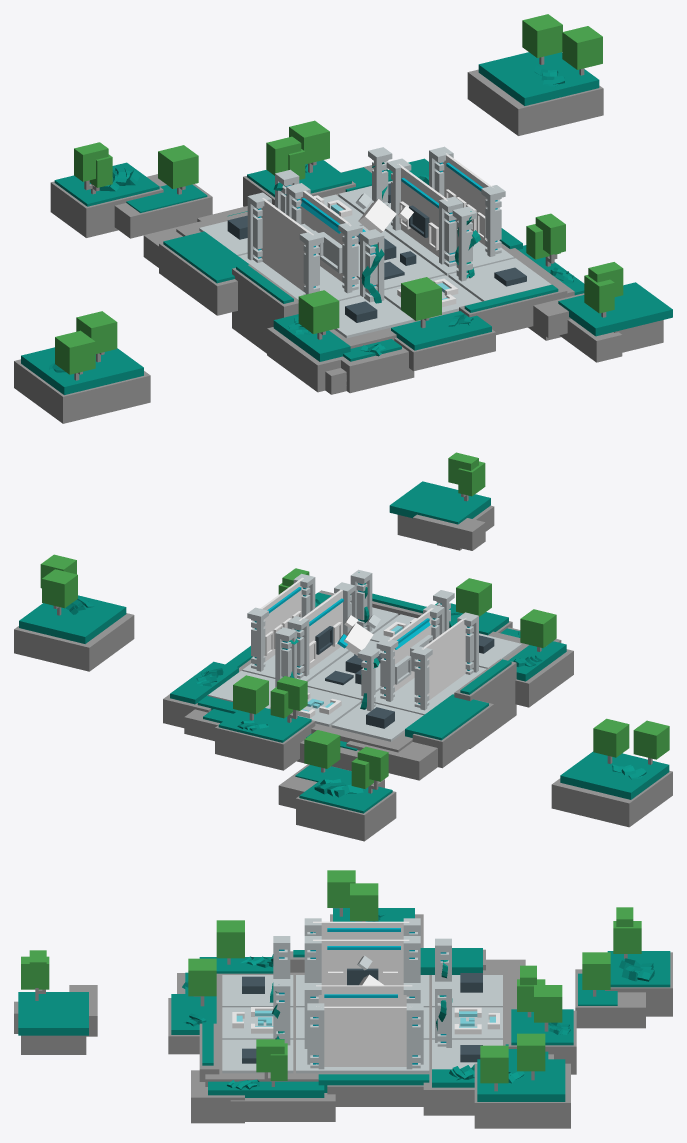
3 renders of one model, top to bottom at view 1: azimuth 30°, elevation 25°; view 2: azimuth 150°, elevation 25°; view 3: azimuth 270°, elevation 25°, orthographic. The views are drawn at different scales.
Parts seen in each view (by area): view 1: group1140946503; view 2: group1140946503; view 3: group1140946503.
Boxes of the visible parts, left/top/right/bottom form: group1140946503: left=14, top=14, right=672, bottom=423; group1140946503: left=14, top=452, right=672, bottom=841; group1140946503: left=14, top=870, right=672, bottom=1128.
Bounding box in the file's own units: 2.4 × 0.6712 × 2.32.
Materials: 1 (1 with a texture image).
